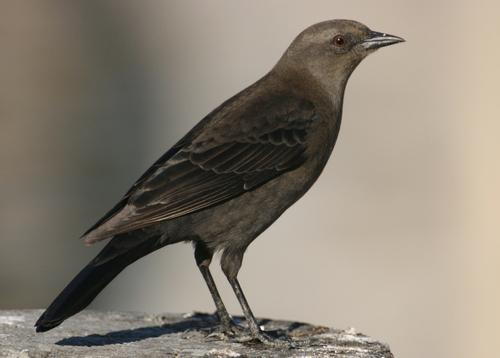009.Brewer_Blackbird: (34, 18, 408, 348)
